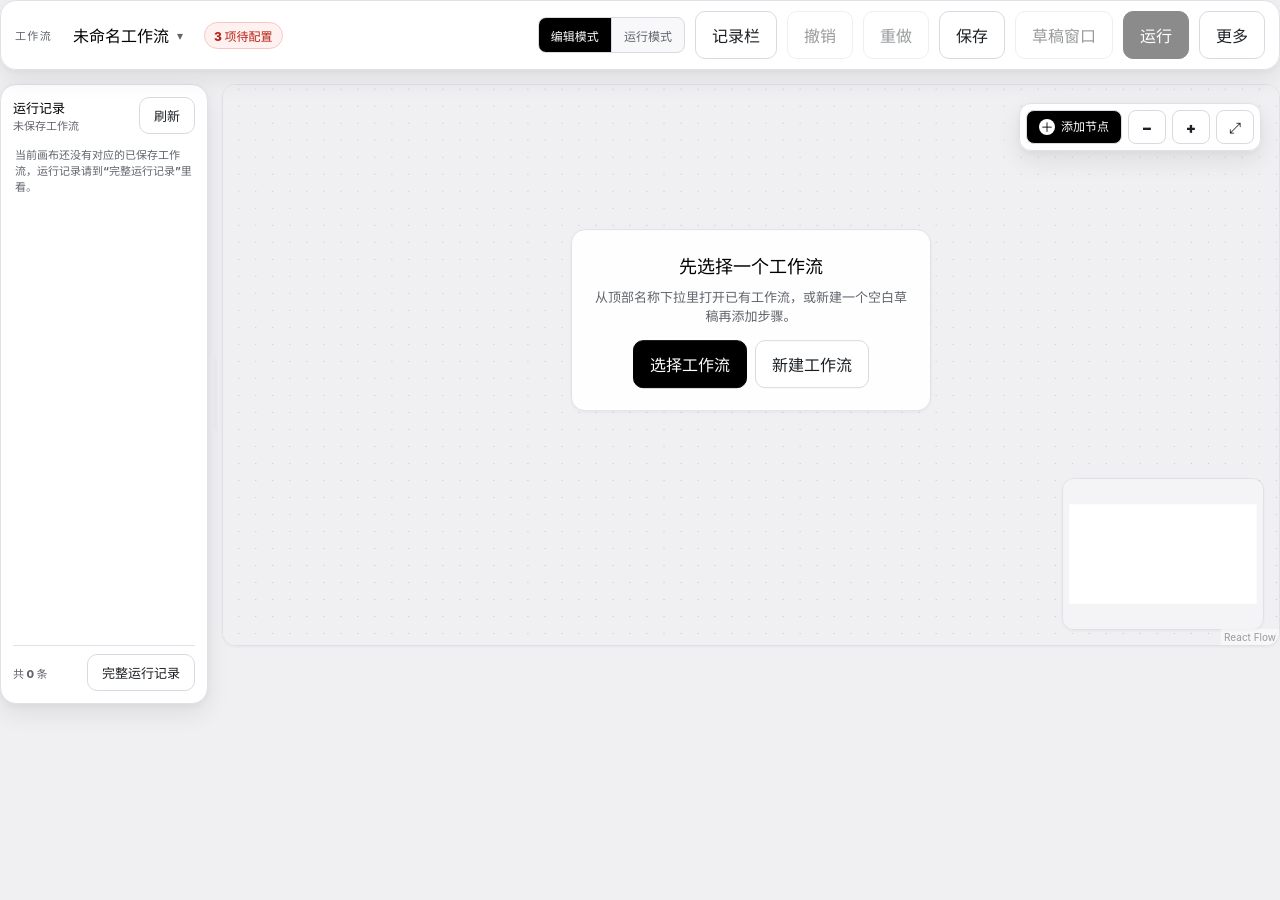
Test: WorkflowEditor 执行机器步骤 › 运行抽屉直接展示执行机器并在摘要中回显所选机器
The image size is (1280, 900).
Step 1. Click the button with class "workflowNameTrigger" → (128, 35), box [62,16,194,54]
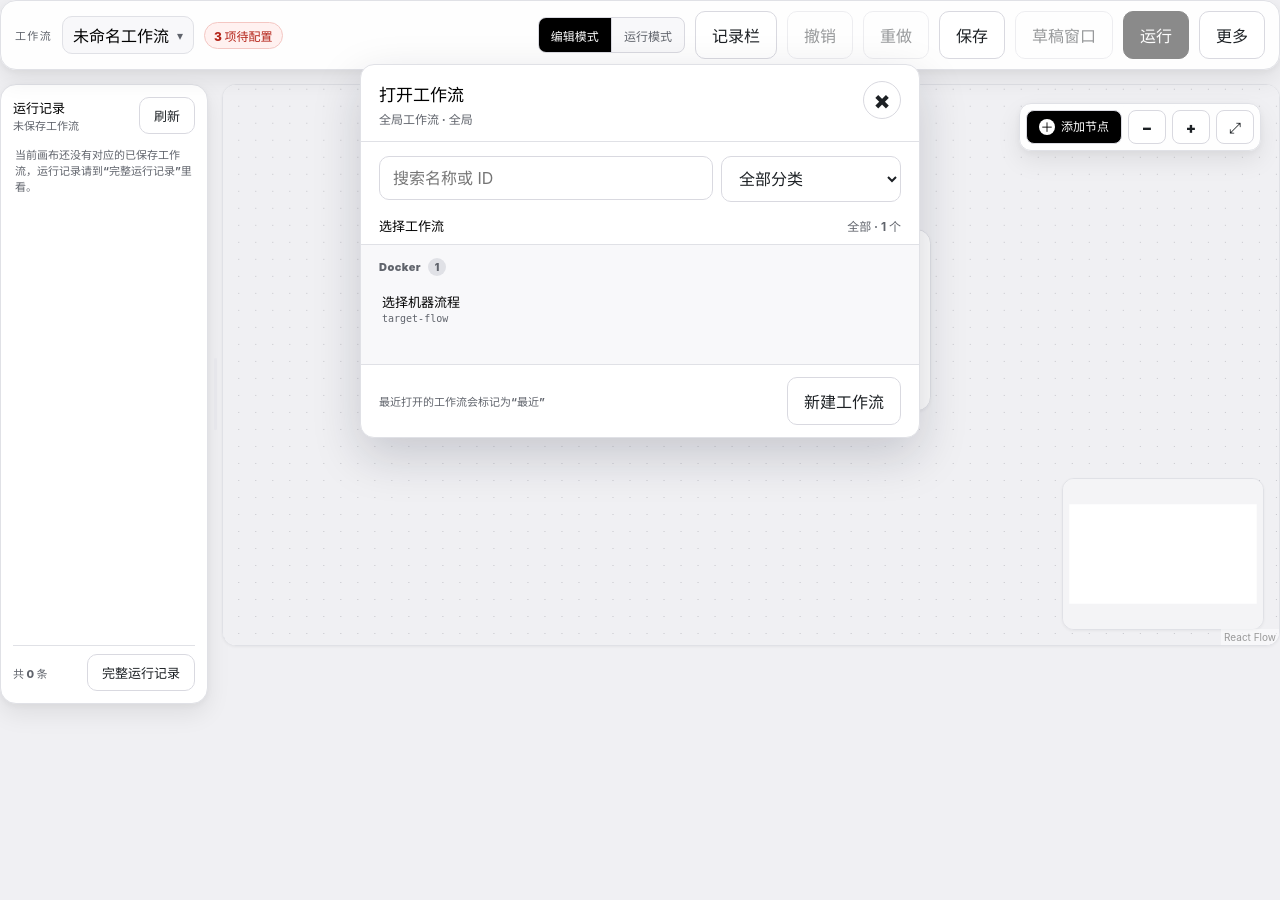
Step 2. Click the option with class "workflowLoaderItem" → (421, 302), box [371,282,909,334]
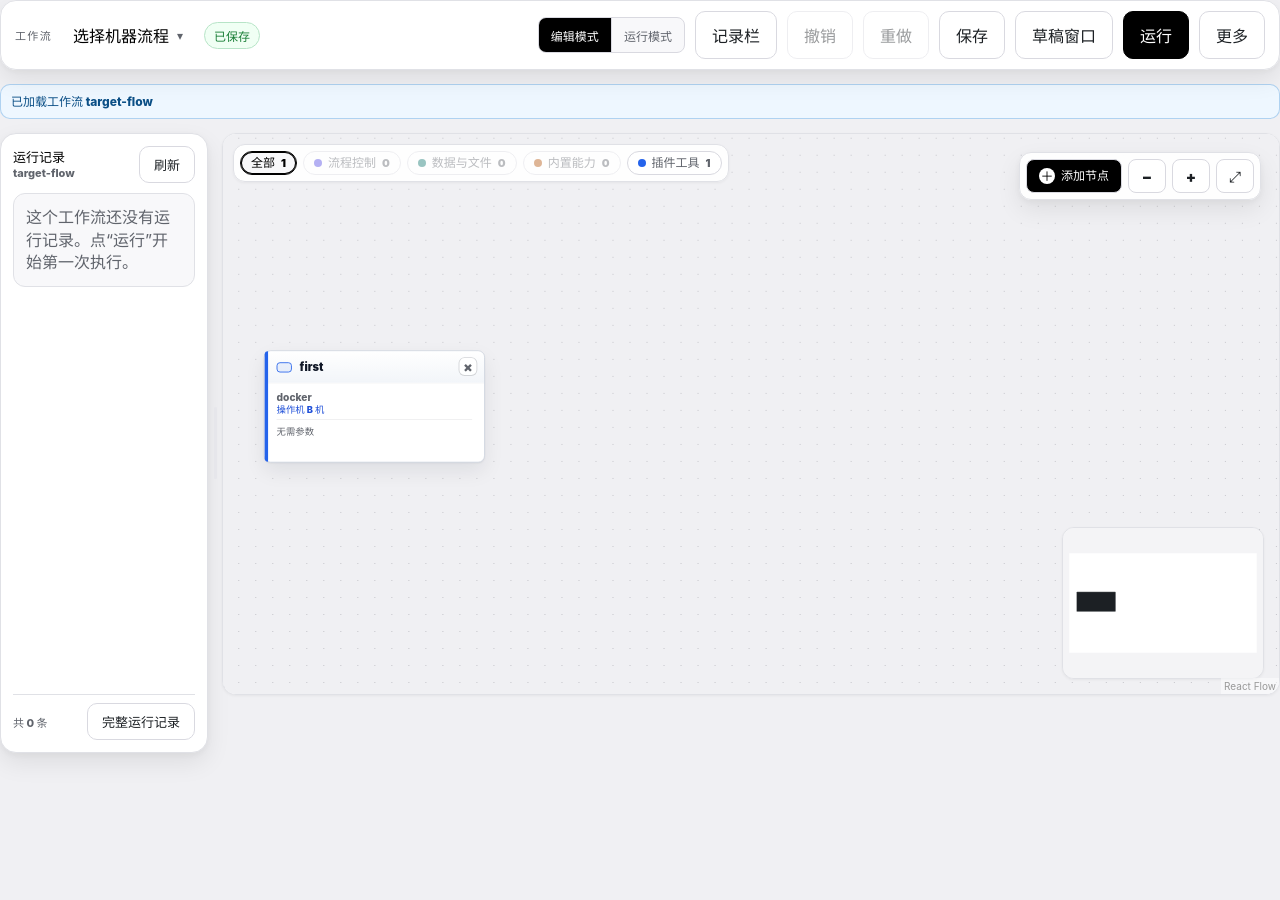
Step 3. Click the button with aria-label "运行工作流" → (1156, 35), box [1123,11,1189,59]
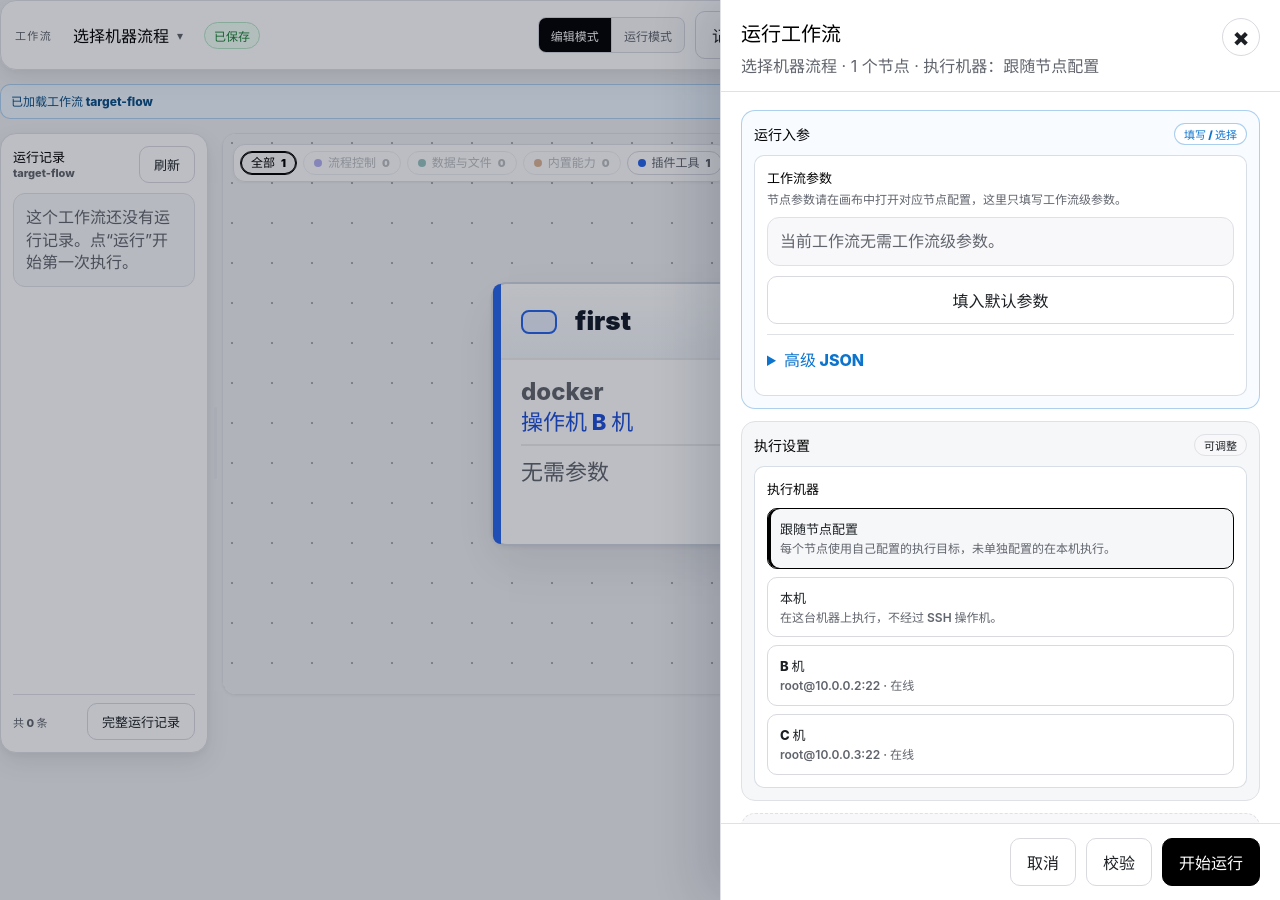
Expected: the dialog named "运行准备" is shown, [720,0,1279,899]
Expected: the dialog named "运行准备" shows "工作流参数", [767,170,832,186]
Expected: the dialog named "运行准备" shows "执行机器", [767,481,819,497]
Step 4. Click the radio button with class "workflowTargetOption" showing "C 机 root@10.0.0.3:22 · 在线" → (838, 755), box [767,714,1234,775]
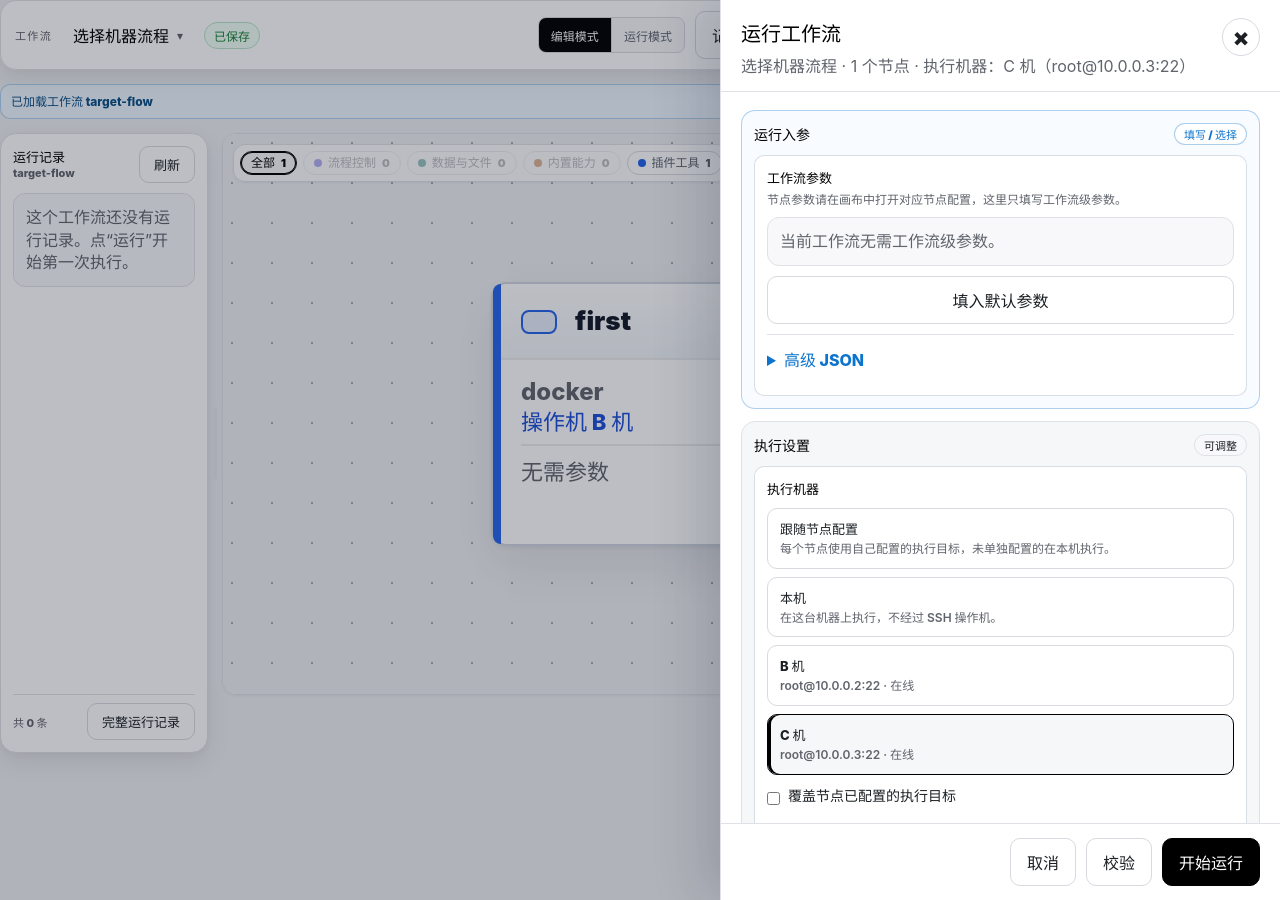
Expected: the dialog named "运行准备" shows "C 机（root@10.0.0.3:22）", [1003,56,1195,76]
